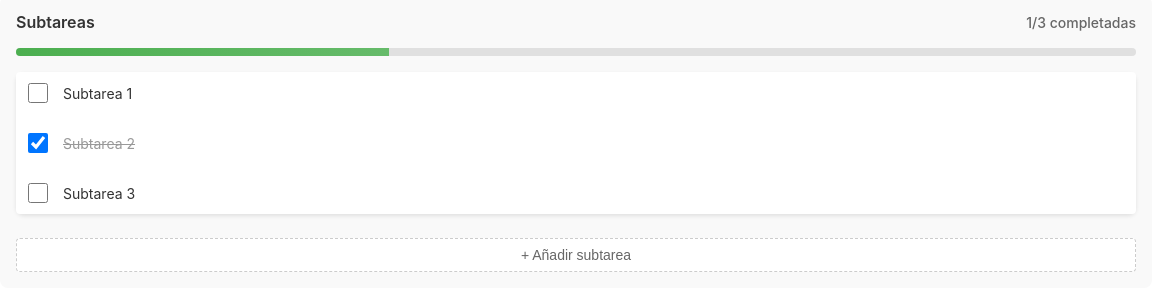
Test case: SubtaskChecklist › UI de añadir subtarea › debe ocultar input al cancelar
Click the button "+ Añadir subtarea" at (576, 255), box [16,238,1136,272]
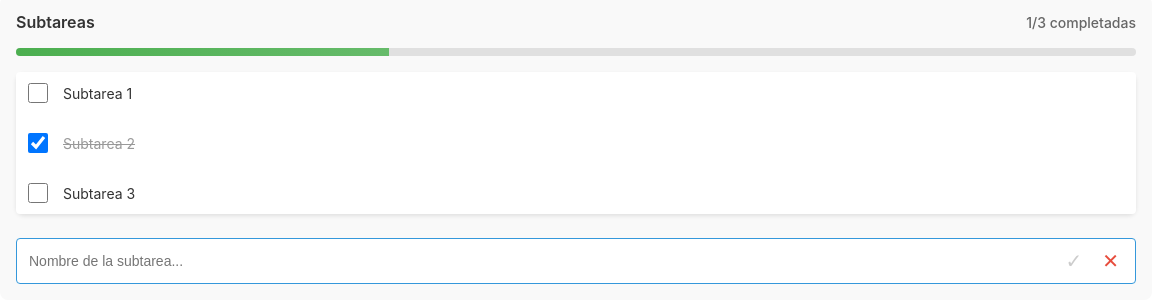
Click the button "✕" at (1111, 261), box [1094,247,1127,275]
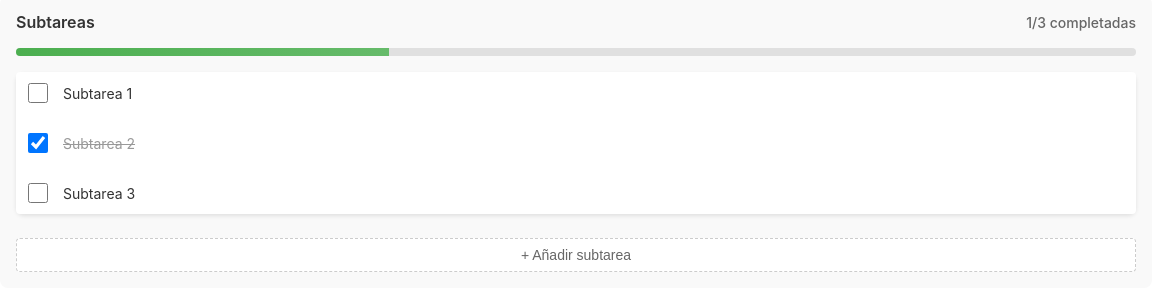
Check: the field with placeholder "Nombre de la subtarea..." is not shown
Check: the button "+ Añadir subtarea" is shown, box [16,238,1136,272]
